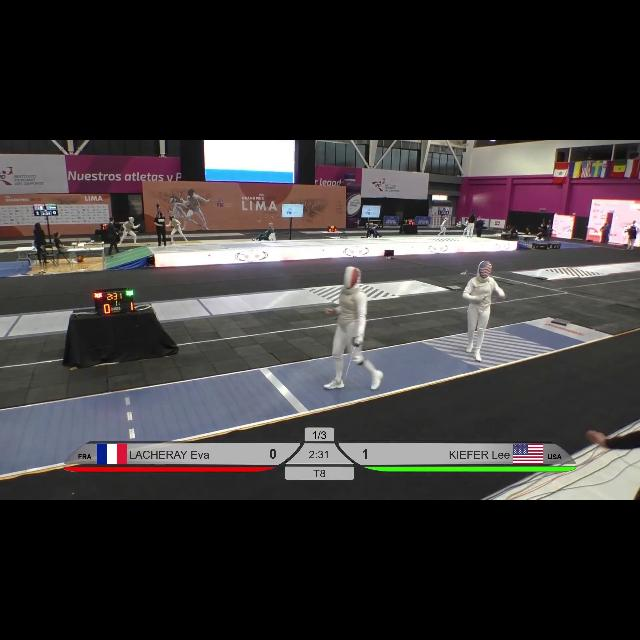blade: (330, 337, 362, 417), (482, 290, 508, 302)
